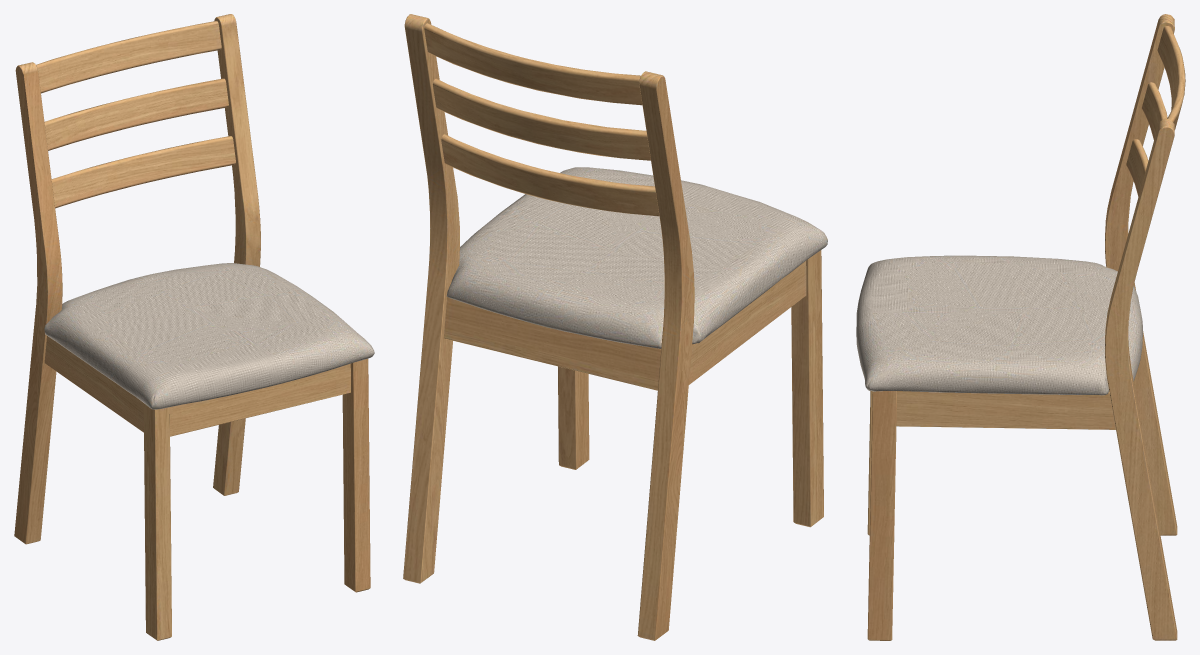
Rendered from tonstad_krzeso_00593884.glb.
3 views of the same model, side by side, from view 1: azimuth 30°, elevation 25°; view 2: azimuth 150°, elevation 25°; view 3: azimuth 270°, elevation 25° (orthographic). The views are drawn at different scales.
Visible parts, largest first — view 1: tonstad_krzeso_00593884; view 2: tonstad_krzeso_00593884; view 3: tonstad_krzeso_00593884.
Part boxes in pixels (left/top/right/bottom): tonstad_krzeso_00593884: left=14, top=14, right=374, bottom=640; tonstad_krzeso_00593884: left=403, top=14, right=827, bottom=640; tonstad_krzeso_00593884: left=856, top=14, right=1185, bottom=640.
Size of the model in its own units: 0.4348 by 0.8836 by 0.5118.
Materials: 1 (1 with a texture image).
